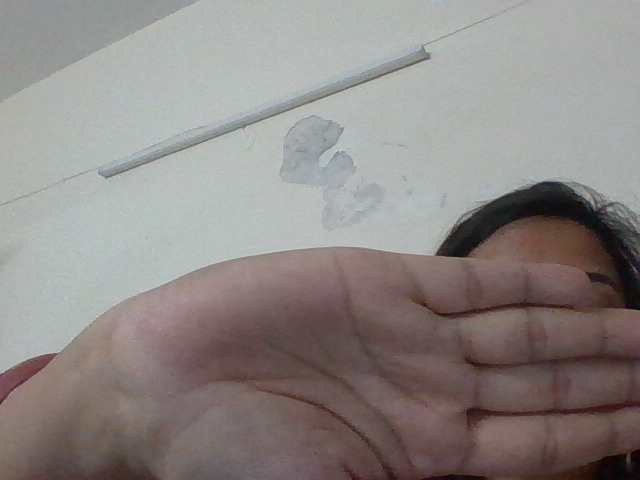rewind: (4, 232, 636, 476)
